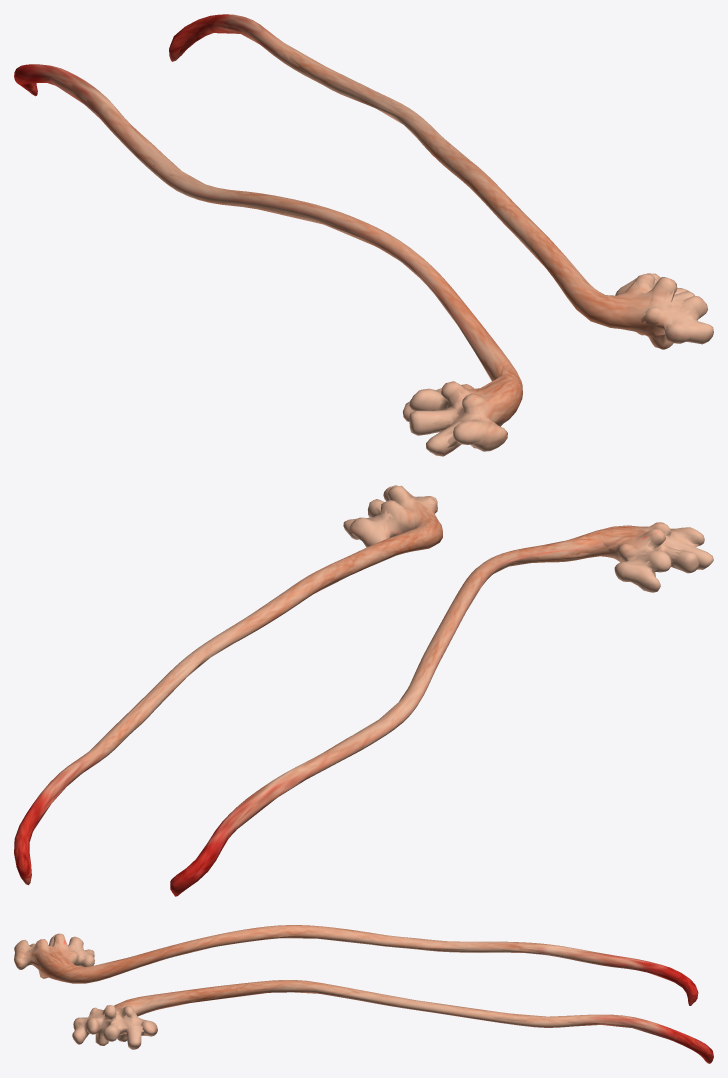
Rendered from Ureters.fbx.
3 renders of one model, top to bottom at view 1: azimuth 30°, elevation 25°; view 2: azimuth 150°, elevation 25°; view 3: azimuth 270°, elevation 25°, orthographic. The views are drawn at different scales.
Parts seen in each view (by area): view 1: Ureters, Ureters low; view 2: Ureters, Ureters low; view 3: Ureters, Ureters low.
Part boxes in pixels (bbox=[...]): Ureters: bbox=[14, 14, 713, 456]; Ureters low: bbox=[28, 22, 697, 447]; Ureters: bbox=[14, 485, 713, 896]; Ureters low: bbox=[28, 493, 699, 866]; Ureters: bbox=[14, 925, 713, 1063]; Ureters low: bbox=[22, 935, 702, 1057].
Size of the model in its own units: 21.59 by 7.88 by 58.63.
Materials: 1 (1 with a texture image).
